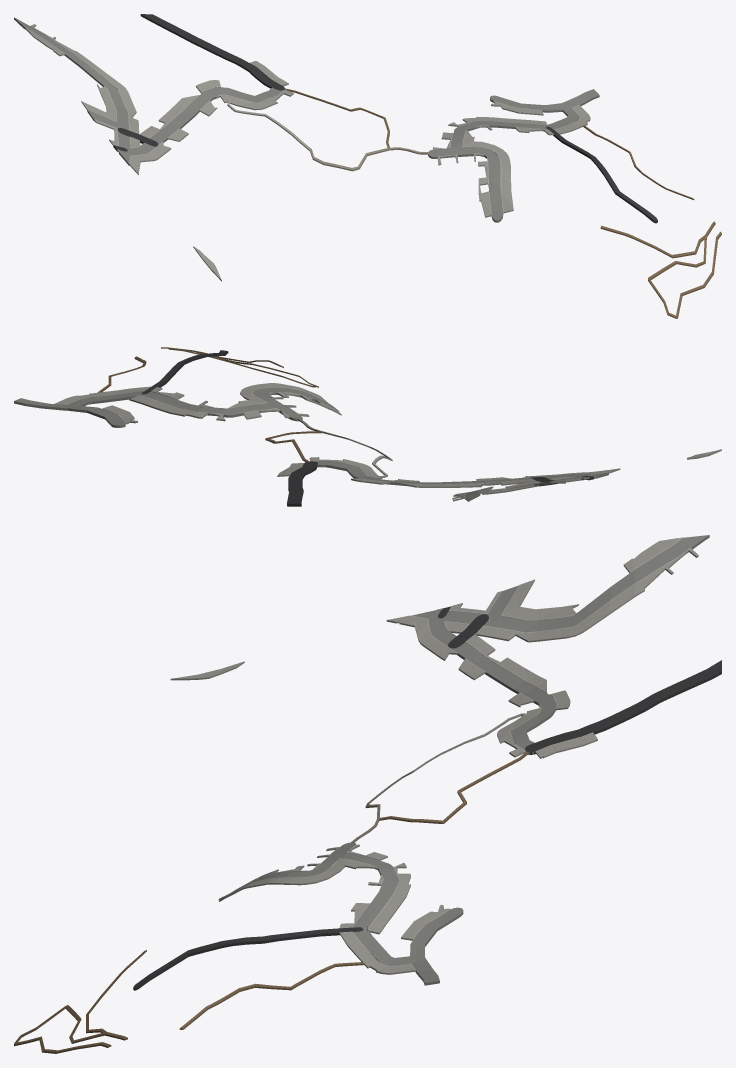
3 views of the same model, one above another, from view 1: azimuth 30°, elevation 25°; view 2: azimuth 150°, elevation 25°; view 3: azimuth 270°, elevation 25° (orthographic). The views are drawn at different scales.
Bounding box in the file's own units: 293 × 119 × 292.
